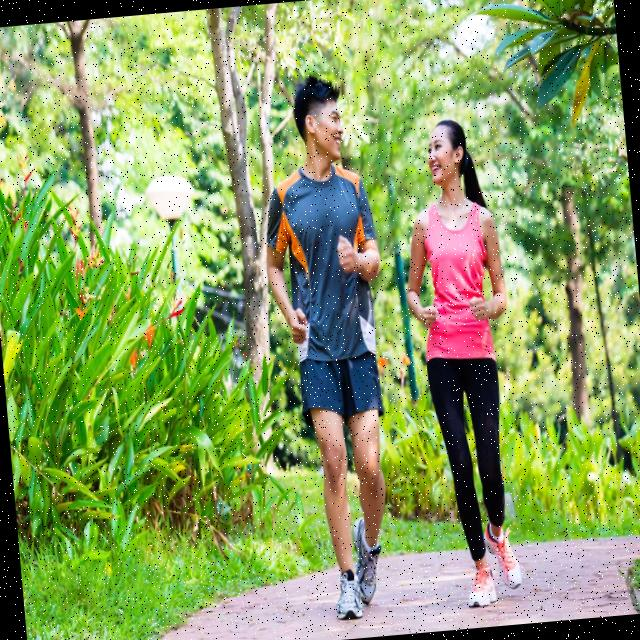Person: (250, 69, 410, 623), (392, 117, 532, 613)
